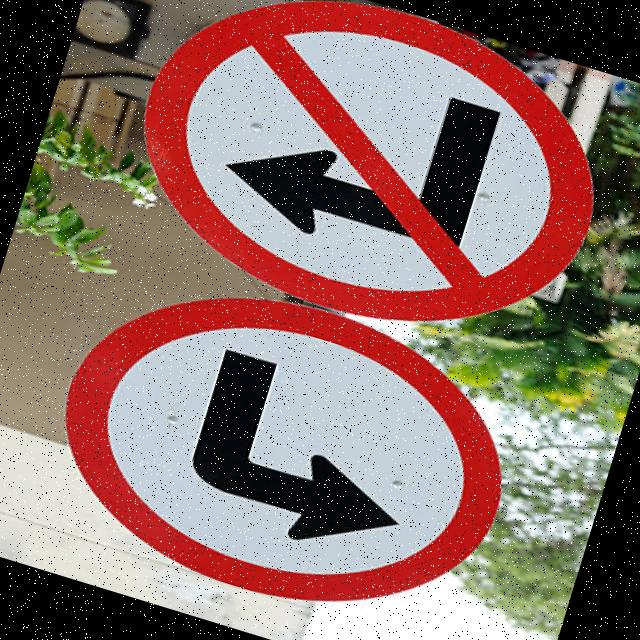do_not_turn_right: (101, 0, 636, 377)
